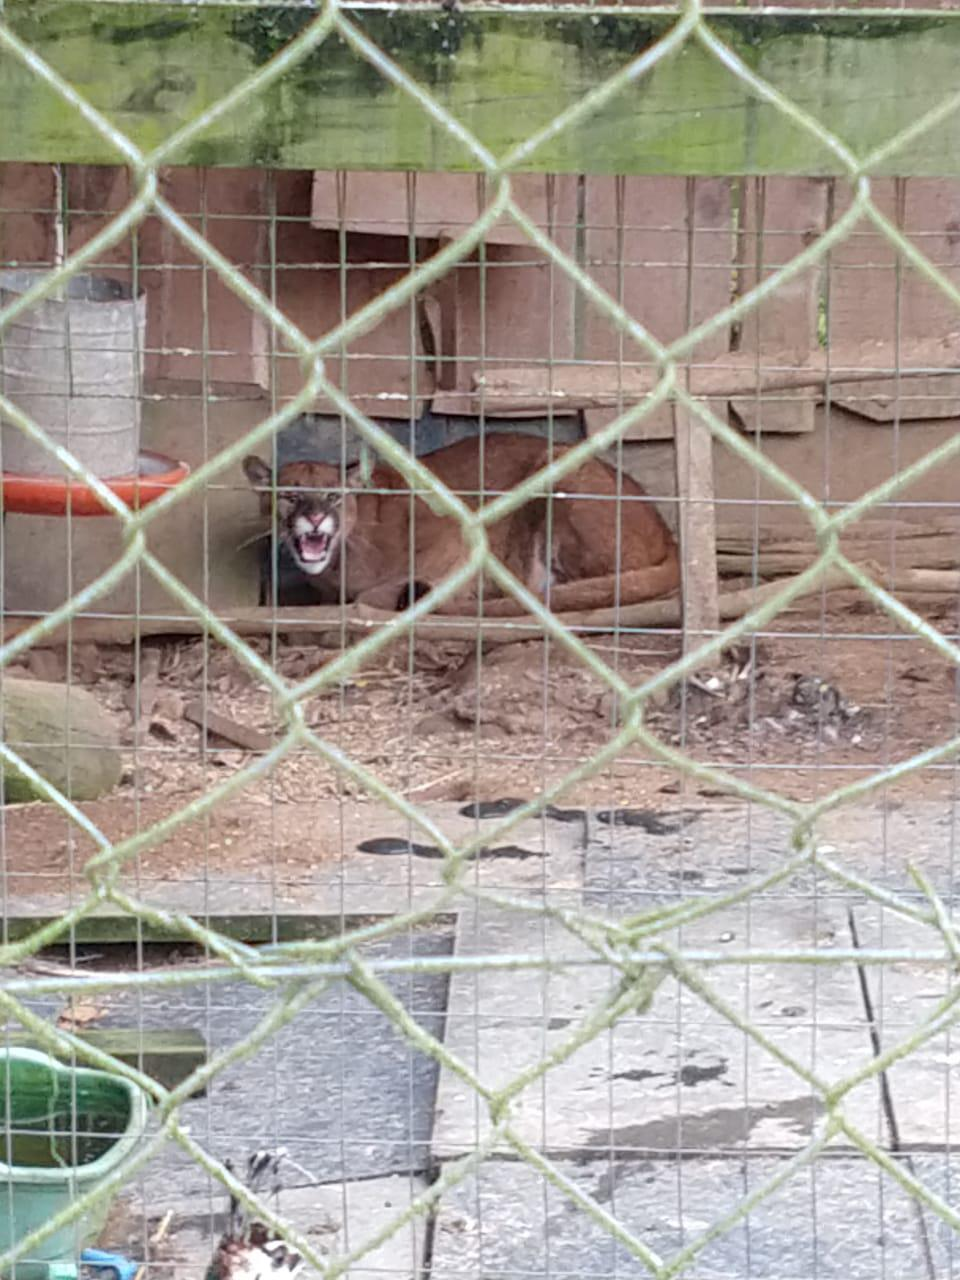OncaParda: (221, 429, 706, 647)
